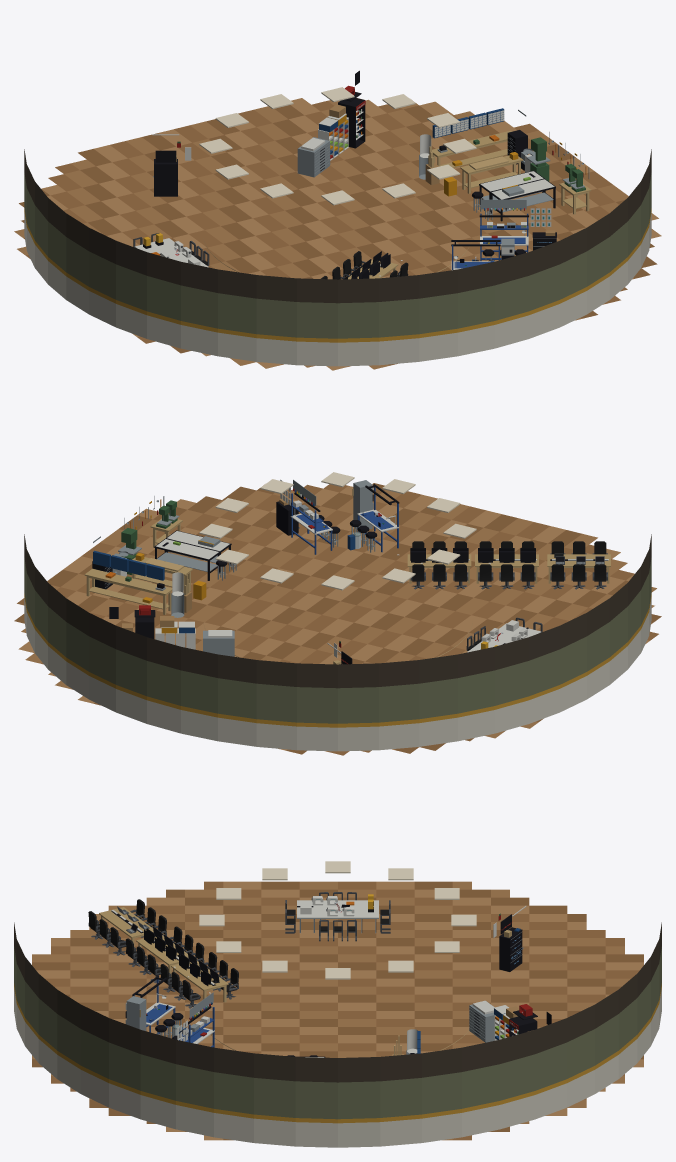
File: arena_bench.glb
3 views of the same model, one above another, from view 1: azimuth 30°, elevation 25°; view 2: azimuth 150°, elevation 25°; view 3: azimuth 270°, elevation 25° (orthographic). The views are drawn at different scales.
Visible parts, largest first — view 1: bench_a, bench_floor, bench_c, bench_b, glow_bench; view 2: bench_a, bench_floor, bench_c, bench_b, glow_bench; view 3: bench_floor, bench_a, bench_c, bench_b, glow_bench.
Part boxes in pixels (x1,y1,x2,y2): bench_a: (24, 108, 651, 366); bench_floor: (14, 98, 661, 370); bench_c: (297, 70, 408, 279); bench_b: (152, 134, 556, 270); glow_bench: (199, 87, 476, 272); bench_a: (24, 496, 651, 751); bench_floor: (14, 483, 661, 755); bench_c: (109, 541, 610, 656); bench_b: (276, 479, 399, 664); glow_bench: (199, 472, 476, 657); bench_floor: (32, 881, 643, 1140); bench_a: (14, 892, 661, 1147); bench_c: (88, 899, 551, 1042); bench_b: (125, 906, 526, 1047); glow_bench: (199, 861, 476, 1050).
Size of the model in its own units: 72 by 11.15 by 72.
